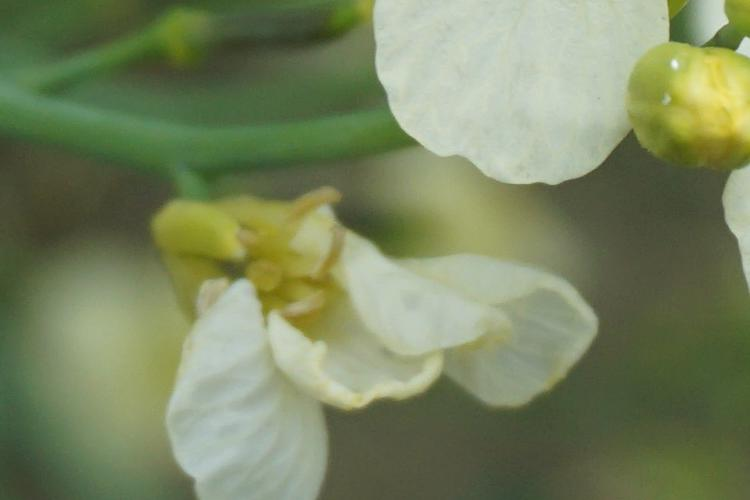bud: (628, 43, 750, 167)
white: (148, 202, 601, 494), (371, 6, 673, 175)
